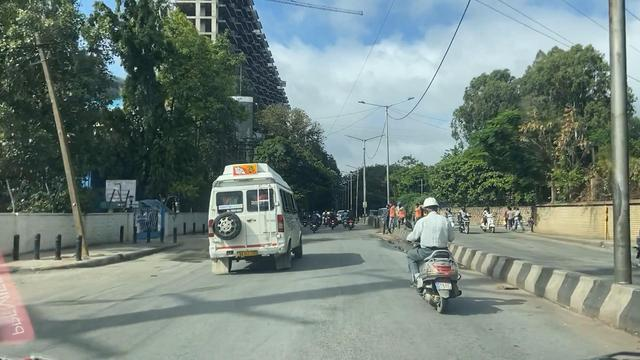HMV: (204, 164, 304, 280)
LMV: (405, 204, 463, 313)
